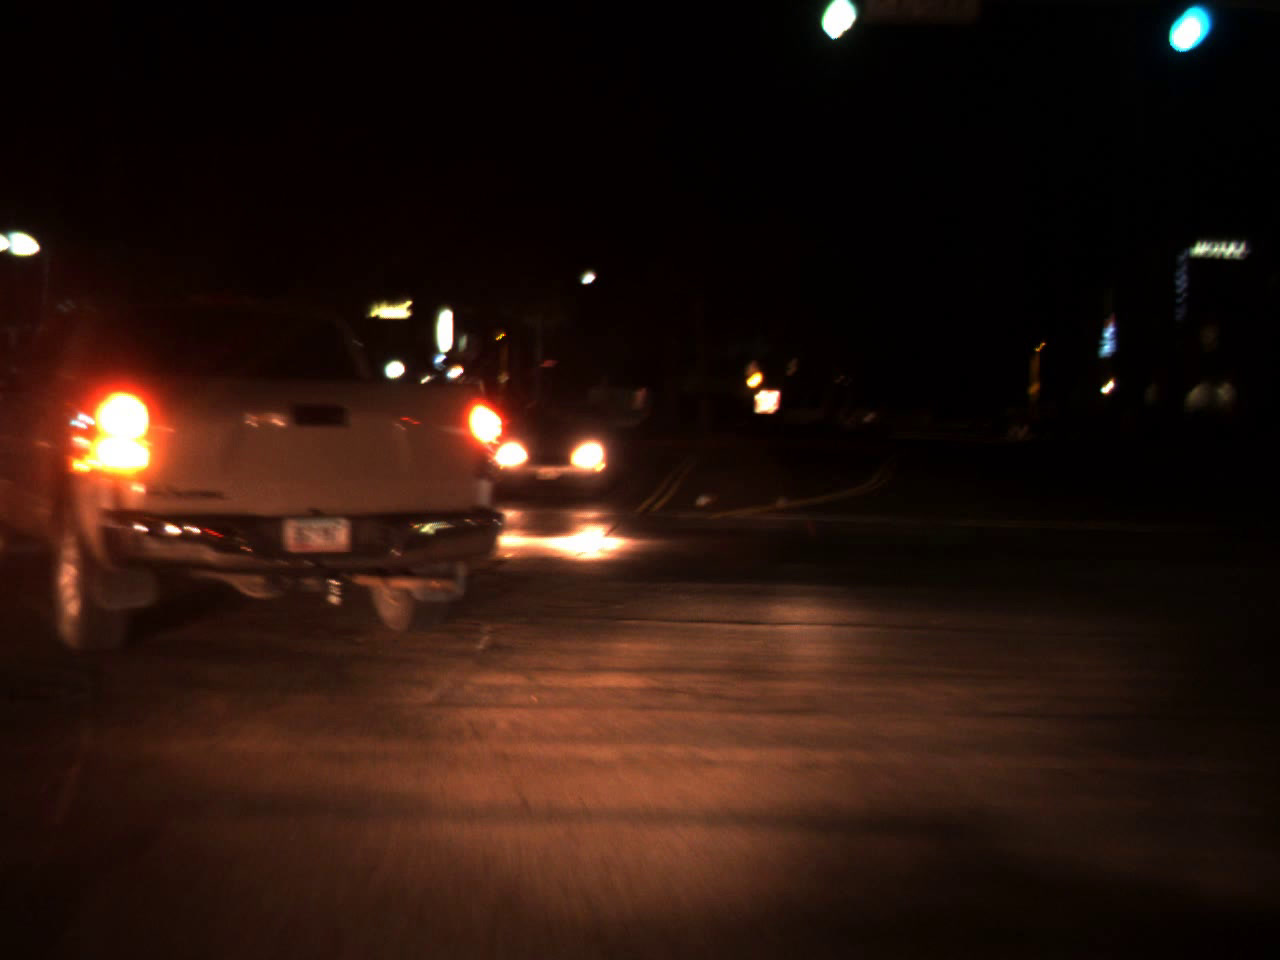go: (802, 0, 868, 50), (1165, 0, 1210, 61)
